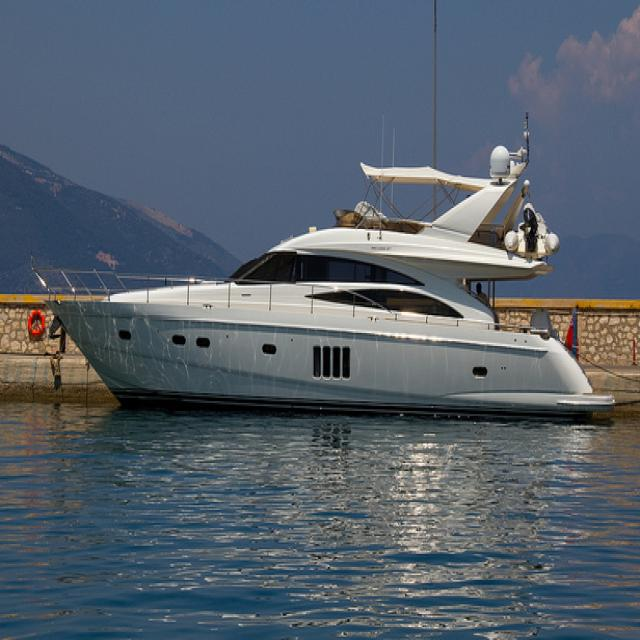houseboat: (29, 108, 618, 441)
